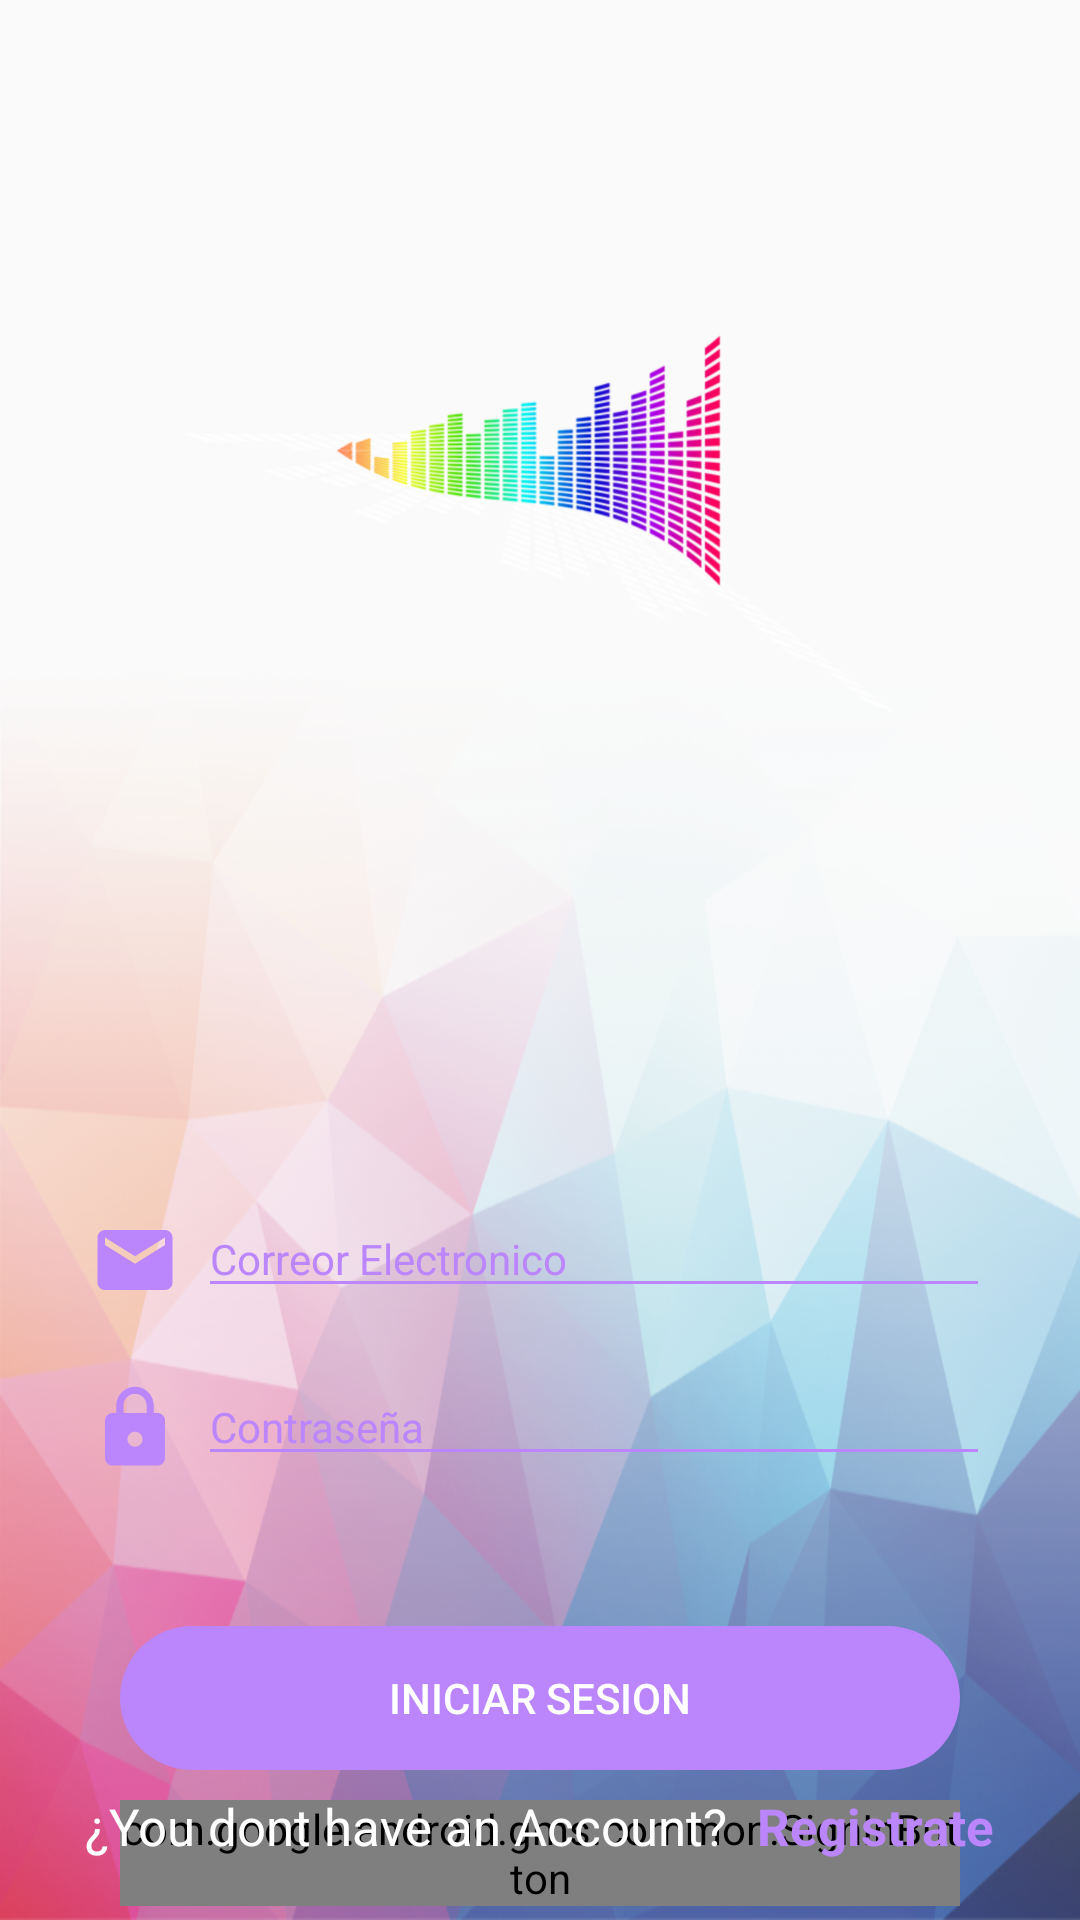

Point at icon controls on the screen. Image size 1080 × 1920, points as [x,y].
email: [138,1260]
password: [135,1426]
